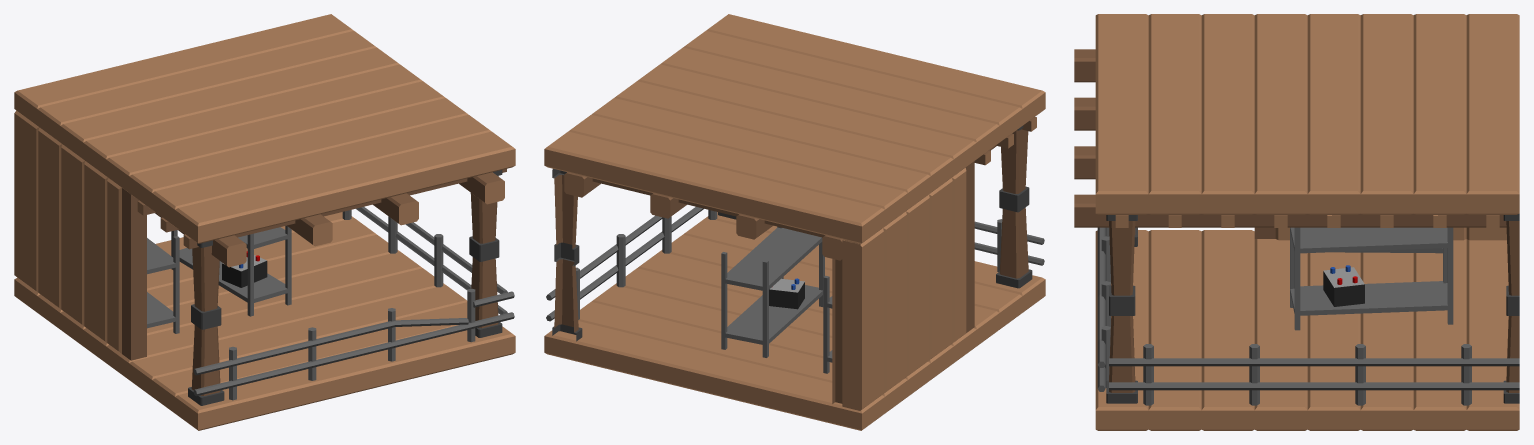
File: BatteryRoom_Lvl_01_Corner_Left.fbx
The picture shows the model from 3 angles, left to right: view 1: azimuth 30°, elevation 25°; view 2: azimuth 150°, elevation 25°; view 3: azimuth 270°, elevation 25°; orthographic projection. The views are drawn at different scales.
Parts seen in each view (by area): view 1: BatteryRoom_Lvl_01_Corner_Left; view 2: BatteryRoom_Lvl_01_Corner_Left; view 3: BatteryRoom_Lvl_01_Corner_Left.
Boxes of the visible parts, x1=… form: BatteryRoom_Lvl_01_Corner_Left: x1=14, y1=14, x2=515, y2=430; BatteryRoom_Lvl_01_Corner_Left: x1=544, y1=14, x2=1045, y2=430; BatteryRoom_Lvl_01_Corner_Left: x1=1074, y1=14, x2=1519, y2=430.
Size of the model in its own units: 8 by 5 by 8.4.
